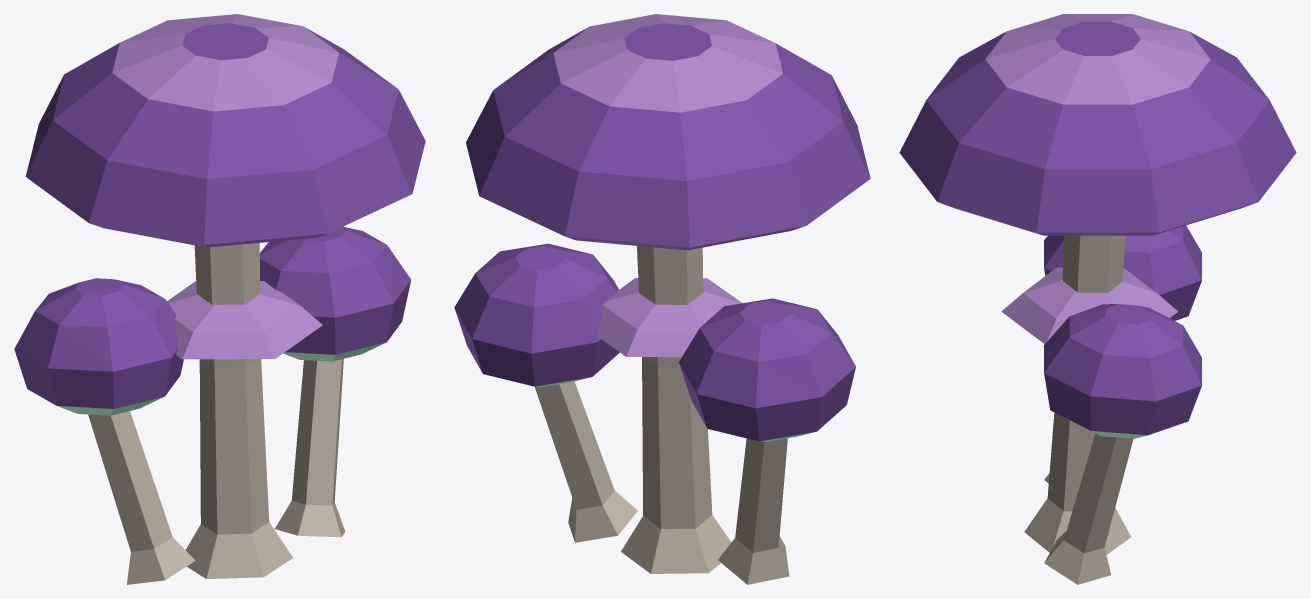
Rendered from mushroom.gltf.
3 renders of one model, left to right at view 1: azimuth 30°, elevation 25°; view 2: azimuth 150°, elevation 25°; view 3: azimuth 270°, elevation 25°, orthographic. The views are drawn at different scales.
Parts seen in each view (by area): view 1: mushroom; view 2: mushroom; view 3: mushroom.
Boxes of the visible parts, left/top/right/bottom form: mushroom: left=14, top=14, right=425, bottom=584; mushroom: left=454, top=14, right=870, bottom=584; mushroom: left=899, top=14, right=1296, bottom=584.
Size of the model in its own units: 0.3188 by 0.4302 by 0.3108.
